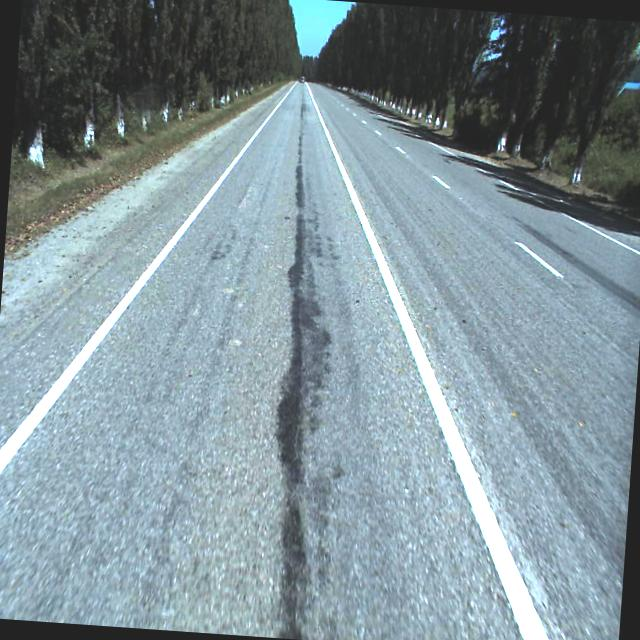road: (0, 80, 640, 640)
